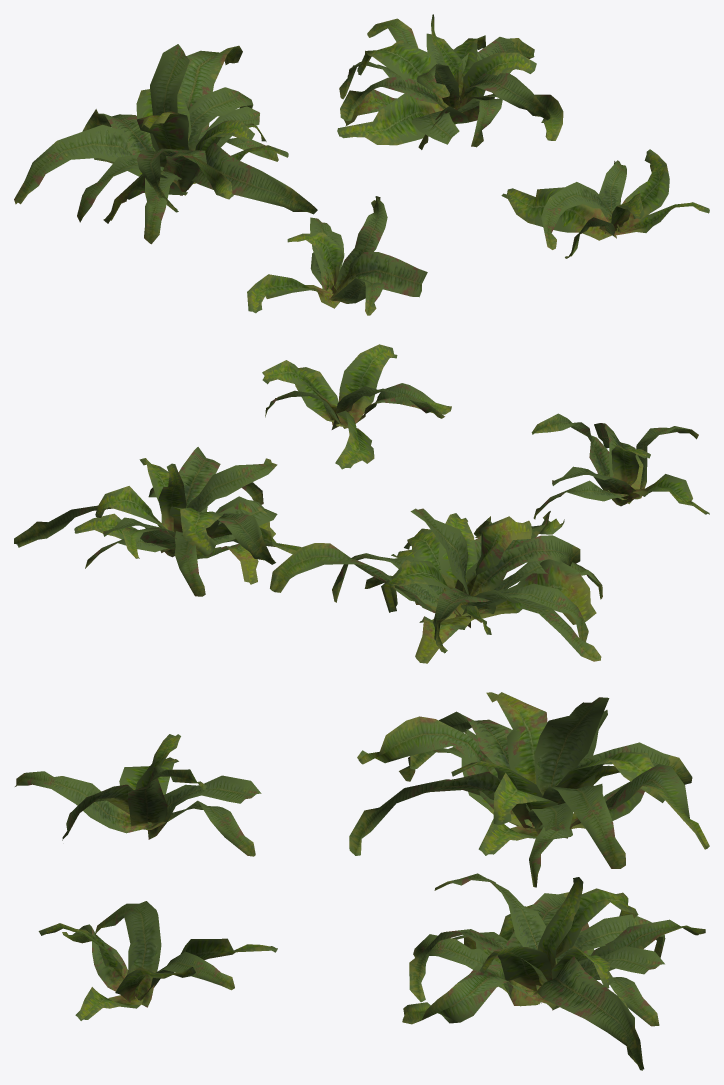
File: fern_02_rt.gltf
3 views of the same model, one above another, from view 1: azimuth 30°, elevation 25°; view 2: azimuth 150°, elevation 25°; view 3: azimuth 270°, elevation 25° (orthographic). The views are drawn at different scales.
Parts seen in each view (by area): view 1: fern_02_b, fern_02_c, fern_02_a, fern_02_d; view 2: fern_02_b, fern_02_c, fern_02_d, fern_02_a; view 3: fern_02_b, fern_02_c, fern_02_a, fern_02_d.
Boxes of the visible parts, bbox=[...] form: fern_02_b: bbox=[14, 44, 317, 244]; fern_02_c: bbox=[337, 14, 563, 149]; fern_02_a: bbox=[247, 196, 427, 315]; fern_02_d: bbox=[501, 149, 709, 258]; fern_02_b: bbox=[270, 508, 602, 663]; fern_02_c: bbox=[14, 447, 301, 596]; fern_02_d: bbox=[262, 344, 451, 469]; fern_02_a: bbox=[531, 413, 709, 519]; fern_02_b: bbox=[349, 692, 709, 887]; fern_02_c: bbox=[402, 873, 705, 1070]; fern_02_a: bbox=[15, 734, 261, 856]; fern_02_d: bbox=[38, 901, 277, 1020].
Bounding box in the file's own units: 1.97 × 0.4277 × 1.72.
Materials: 1 (1 with a texture image).
